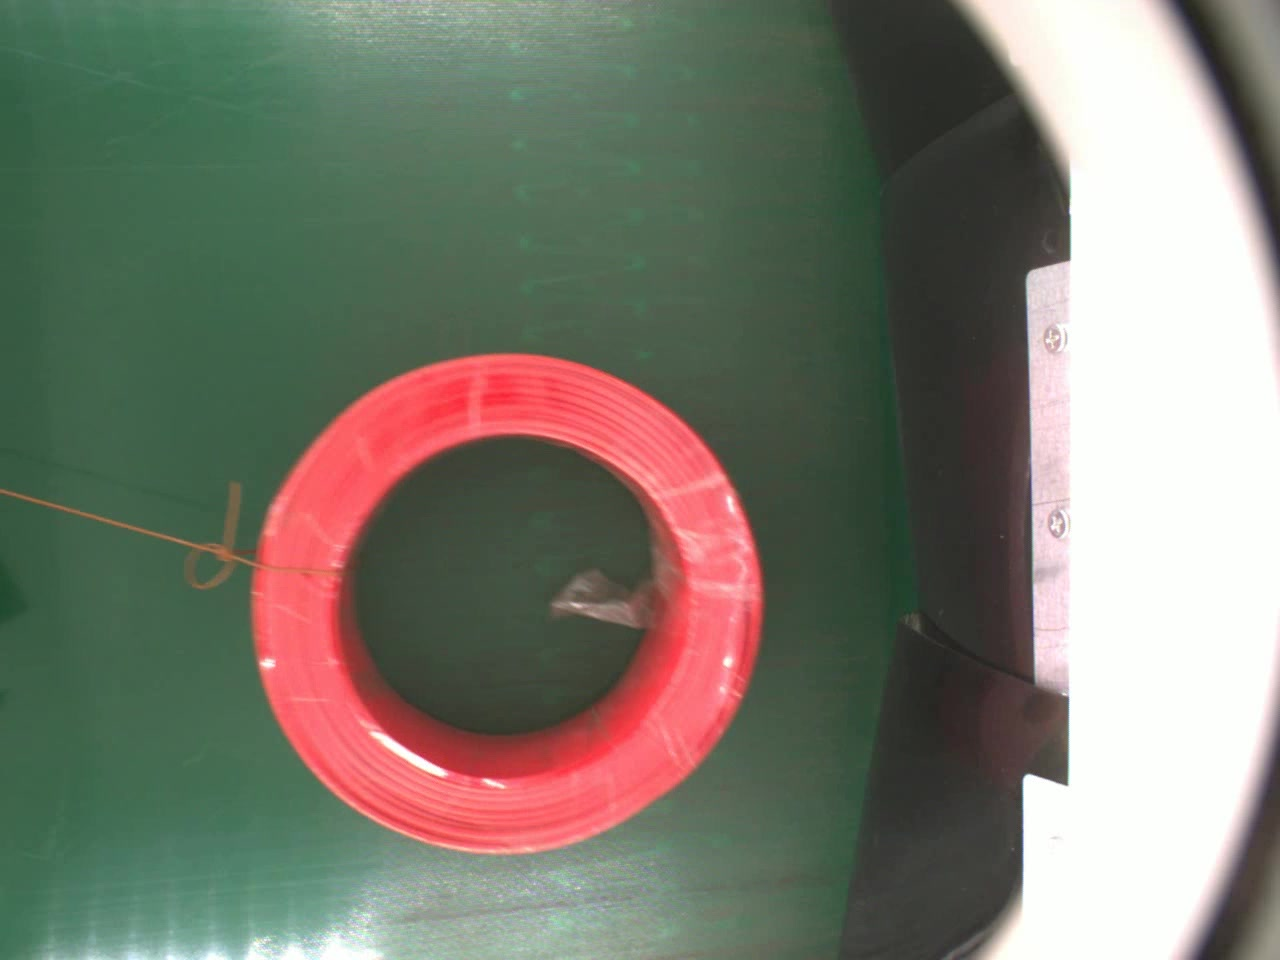red: (234, 351, 782, 861)
